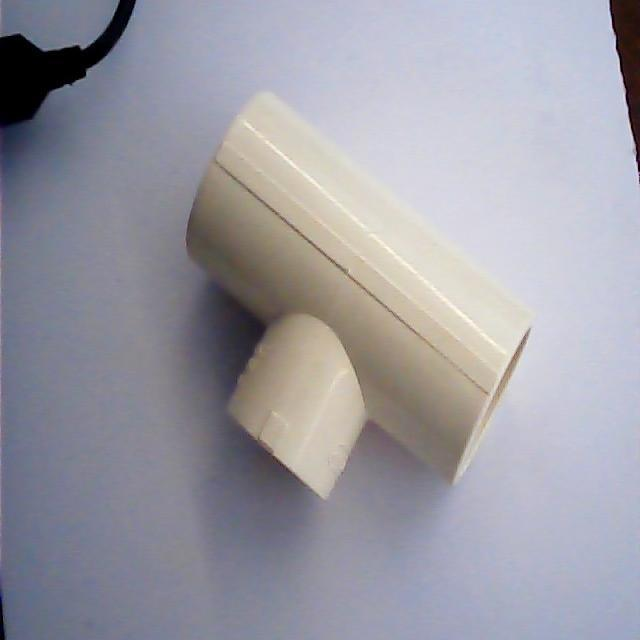T Joint: (184, 92, 535, 501)
